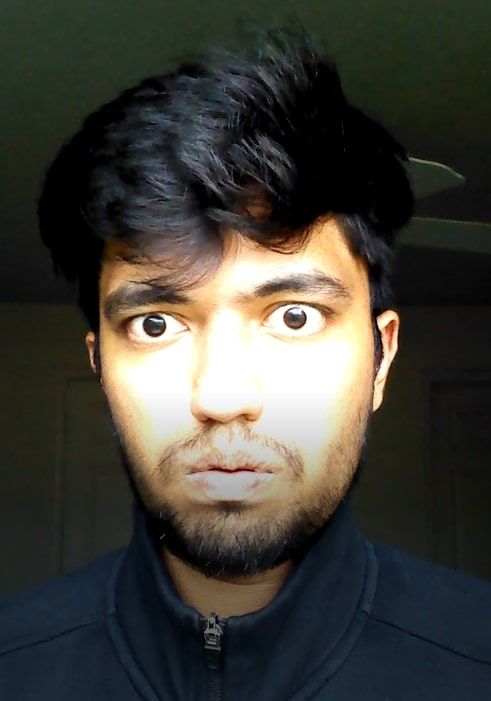Not Sleeping: (93, 287, 357, 360)
